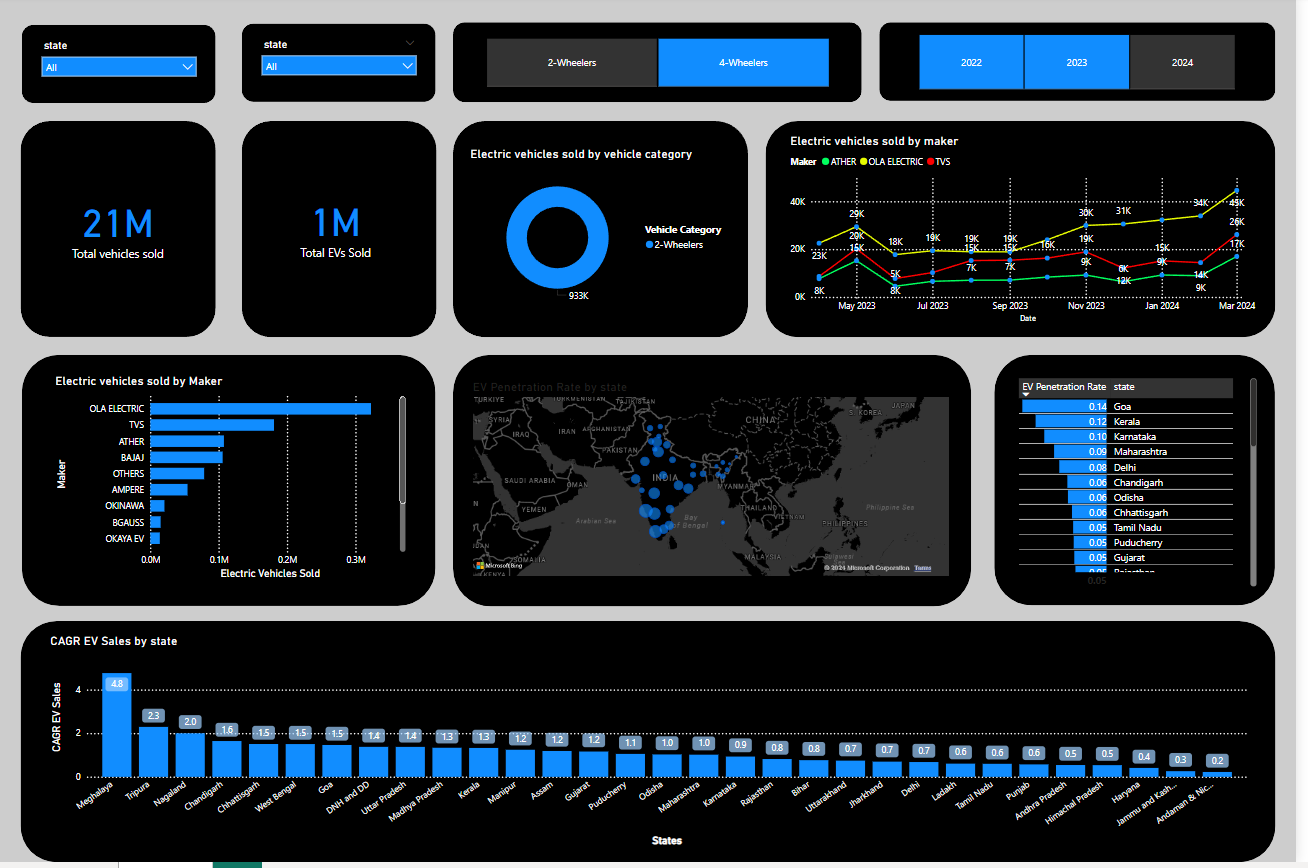

This screenshot's page, from the dashboard's own definition file:
{"tool":"powerbi","page":{"name":"Page 1","canvas":[1800,1300],"ordinal":0},"visuals":[{"type":"shape","box":[630.5,36.4,566.4,110.9],"z":0,"group":"g11"},{"type":"shape","box":[337.8,38.1,268.6,108.6],"z":0,"group":"g20"},{"type":"group","id":"g1","title":"Group 1","box":[32.9,39.8,268.5,107.4],"z":0},{"type":"shape","box":[32.9,39.8,268.6,108.6],"z":0,"group":"g1"},{"type":"group","id":"g2","title":"Group 4","box":[31.2,173.2,270.7,299.3],"z":0,"group":"g18"},{"type":"shape","box":[31.2,173.2,270.7,299.3],"z":0,"group":"g2"},{"type":"group","id":"g3","title":"Group 4","box":[337.8,173.2,270.2,299.7],"z":0,"group":"g17"},{"type":"shape","box":[337.8,173.2,270.2,299.7],"z":0,"group":"g3"},{"type":"group","id":"g4","title":"Group 4","box":[630.5,173.2,408.8,299.7],"z":0,"group":"g15"},{"type":"shape","box":[630.5,173.2,408.8,299.7],"z":0,"group":"g4"},{"type":"group","id":"g5","title":"Group 4","box":[1063.5,173.2,706.7,299.7],"z":0,"group":"g16"},{"type":"shape","box":[1063.5,173.2,706.7,299.7],"z":0,"group":"g5"},{"type":"group","id":"g6","title":"Group 4","box":[32.9,497.1,576,352],"z":0,"group":"g12"},{"type":"shape","box":[32.9,497.1,576,352],"z":0,"group":"g6"},{"type":"group","id":"g7","title":"Group 4","box":[630.5,497.1,718.8,348.2],"z":0,"group":"g19"},{"type":"shape","box":[630.5,497.1,718.1,348.9],"z":0,"group":"g7"},{"type":"group","id":"g8","title":"Group 4","box":[1380.5,497.1,389,347.5],"z":0,"group":"g14"},{"type":"shape","box":[1380.5,497.1,389,347.5],"z":0,"group":"g8"},{"type":"group","id":"g9","title":"Group 4","box":[32,864,1739,334.3],"z":0,"group":"g13"},{"type":"shape","box":[32,864,1739,334.3],"z":0,"group":"g9"},{"type":"shape","box":[1221.1,36.4,549.1,109.1],"z":500,"group":"g10"},{"type":"group","id":"g10","title":"Group 2","box":[1221.1,36.4,549.1,109.1],"z":1000},{"type":"group","id":"g11","title":"Group 3","box":[630.5,36.4,566.4,110.9],"z":2000},{"type":"card","fields":{"Values":["electrical_vehicles_sales_by_state.Total EVs Sold"]},"box":[358.1,198.4,218.9,236.7],"z":2000,"group":"g17"},{"type":"card","fields":{"Values":["Sum(electrical_vehicles_sales_by_state.total_vehicles_sold)"]},"box":[57.6,200.8,218,236.4],"z":2000,"group":"g18"},{"type":"lineChart","title":" Electric vehicles sold by maker","fields":{"Series":["electrical_vehicles_sales_by_maker.maker"],"Y":["Sum(electrical_vehicles_sales_by_maker.electric_vehicles_sold)"],"Category":["electrical_vehicles_sales_by_maker.date"]},"box":[1093.8,190.2,654.7,266.7],"z":3000,"group":"g16"},{"type":"group","id":"g12","title":"Group 5","box":[32.9,497.1,576,352],"z":3000},{"type":"clusteredBarChart","title":"Electric vehicles sold by Maker","fields":{"Category":["electrical_vehicles_sales_by_maker.maker"],"Y":["Sum(electrical_vehicles_sales_by_maker.electric_vehicles_sold)"]},"box":[74,523.8,495.7,290.1],"z":3000,"group":"g12"},{"type":"map","fields":{"Category":["electrical_vehicles_sales_by_state.state"],"Size":["electrical_vehicles_sales_by_state.EV Penetration Rate"]},"box":[652.2,531.1,670.3,277.1],"z":4000,"group":"g19"},{"type":"group","id":"g13","title":"Group 6","box":[32,864,1739,334.3],"z":4000},{"type":"donutChart","title":"Electric vehicles sold by vehicle category","fields":{"Category":["electrical_vehicles_sales_by_maker.vehicle_category"],"Y":["Sum(electrical_vehicles_sales_by_maker.electric_vehicles_sold)"]},"box":[650,208.3,372.9,234.9],"z":5000,"group":"g15"},{"type":"group","id":"g14","title":"Group 7","box":[1380.5,497.1,389.7,348.2],"z":5000},{"type":"group","id":"g15","title":"Group 8","box":[630.5,173.2,408.8,299.7],"z":6000},{"type":"tableEx","fields":{"Values":["electrical_vehicles_sales_by_state.EV Penetration Rate","electrical_vehicles_sales_by_state.state"]},"box":[1408.4,525.3,341,298.9],"z":6000,"group":"g14"},{"type":"group","id":"g16","title":"Group 10","box":[1063.5,173.2,706.7,299.7],"z":7000},{"type":"clusteredColumnChart","fields":{"Category":["electrical_vehicles_sales_by_state.state"],"Y":["electrical_vehicles_sales_by_state.CAGR EV Sales"]},"box":[68.1,881.2,1668,299.7],"z":7000,"group":"g13"},{"type":"group","id":"g17","title":"Group 11","box":[337.8,173.2,270.2,299.7],"z":8000},{"type":"group","id":"g18","title":"Group 11","box":[31.2,173.2,270.2,299.7],"z":9000},{"type":"slicer","fields":{"Values":["electrical_vehicles_sales_by_maker.vehicle_category"]},"box":[651,51.5,523.6,80.7],"z":10000,"group":"g11"},{"type":"group","id":"g19","title":"Group 9","box":[630.5,497.1,718.8,348.2],"z":10000},{"type":"group","id":"g20","title":"Group 1","box":[337.8,38.1,268.5,107.4],"z":11000},{"type":"slicer","fields":{"Values":["dim_date.fiscal_year"]},"box":[1249.9,46.5,486.9,89],"z":11000,"group":"g10"},{"type":"slicer","fields":{"Values":["dim_date.quarter"]},"box":[354.7,54.2,234.7,76.4],"z":12500,"group":"g20"},{"type":"slicer","fields":{"Values":["electrical_vehicles_sales_by_state.state"]},"box":[49.8,55.9,234.7,76.4],"z":12500,"group":"g1"}]}

Visuals, with their boxes on the page's 1800x1300 design canvas (x1, y1, x2, y2). These are canvas units, not pixel positions in the 1308x868 screenshot, which may show the page scaled, cropped or inside an application window:
shape: box=[630, 36, 1197, 147]
shape: box=[338, 38, 606, 147]
"Group 1" group: box=[33, 40, 301, 147]
shape: box=[33, 40, 302, 148]
"Group 4" group: box=[31, 173, 302, 472]
shape: box=[31, 173, 302, 472]
"Group 4" group: box=[338, 173, 608, 473]
shape: box=[338, 173, 608, 473]
"Group 4" group: box=[630, 173, 1039, 473]
shape: box=[630, 173, 1039, 473]
"Group 4" group: box=[1064, 173, 1770, 473]
shape: box=[1064, 173, 1770, 473]
"Group 4" group: box=[33, 497, 609, 849]
shape: box=[33, 497, 609, 849]
"Group 4" group: box=[630, 497, 1349, 845]
shape: box=[630, 497, 1349, 846]
"Group 4" group: box=[1380, 497, 1770, 845]
shape: box=[1380, 497, 1770, 845]
"Group 4" group: box=[32, 864, 1771, 1198]
shape: box=[32, 864, 1771, 1198]
shape: box=[1221, 36, 1770, 146]
"Group 2" group: box=[1221, 36, 1770, 146]
"Group 3" group: box=[630, 36, 1197, 147]
card - electrical_vehicles_sales_by_state.Total EVs Sold: box=[358, 198, 577, 435]
card - Sum(electrical_vehicles_sales_by_state.total_vehicles_sold): box=[58, 201, 276, 437]
" Electric vehicles sold by maker" lineChart: box=[1094, 190, 1748, 457]
"Group 5" group: box=[33, 497, 609, 849]
"Electric vehicles sold by Maker" clusteredBarChart: box=[74, 524, 570, 814]
map - electrical_vehicles_sales_by_state.state x electrical_vehicles_sales_by_state.EV Penetration Rate: box=[652, 531, 1322, 808]
"Group 6" group: box=[32, 864, 1771, 1198]
"Electric vehicles sold by vehicle category" donutChart: box=[650, 208, 1023, 443]
"Group 7" group: box=[1380, 497, 1770, 845]
"Group 8" group: box=[630, 173, 1039, 473]
tableEx - electrical_vehicles_sales_by_state.EV Penetration Rate x electrical_vehicles_sales_by_state.state: box=[1408, 525, 1749, 824]
"Group 10" group: box=[1064, 173, 1770, 473]
clusteredColumnChart - electrical_vehicles_sales_by_state.state x electrical_vehicles_sales_by_state.CAGR EV Sales: box=[68, 881, 1736, 1181]
"Group 11" group: box=[338, 173, 608, 473]
"Group 11" group: box=[31, 173, 301, 473]
slicer - electrical_vehicles_sales_by_maker.vehicle_category: box=[651, 52, 1175, 132]
"Group 9" group: box=[630, 497, 1349, 845]
"Group 1" group: box=[338, 38, 606, 146]
slicer - dim_date.fiscal_year: box=[1250, 46, 1737, 136]
slicer - dim_date.quarter: box=[355, 54, 589, 131]
slicer - electrical_vehicles_sales_by_state.state: box=[50, 56, 284, 132]
